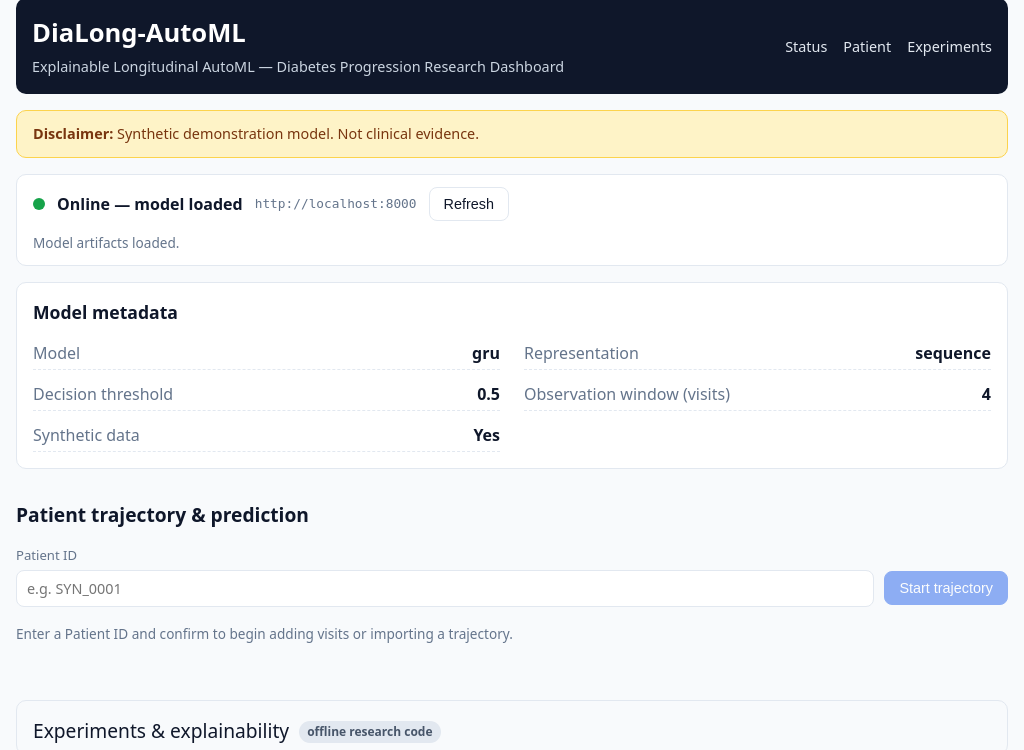
Test: App — Patient ID first step › creates a new patient with an empty history and reveals controls
Type "SYN_NEW" into the field with test id "patient-id-input" at [445, 588], box [16,570,874,607]
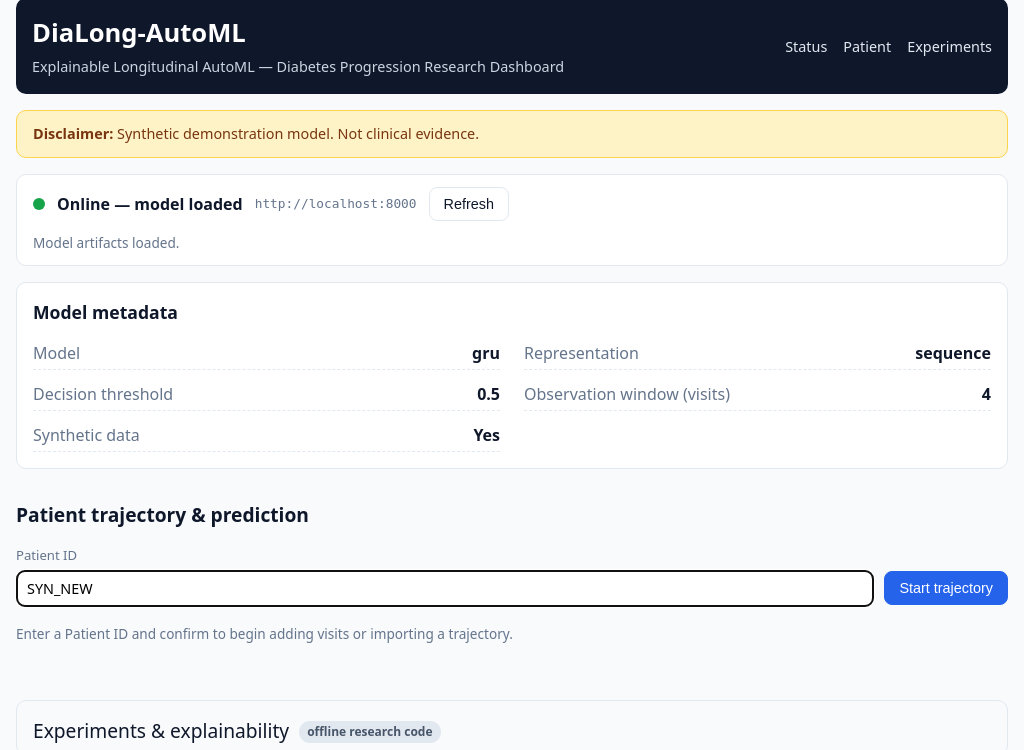
Click the button with test id "patient-id-confirm" at [946, 588], box [884,571,1008,605]
(page scrolled)
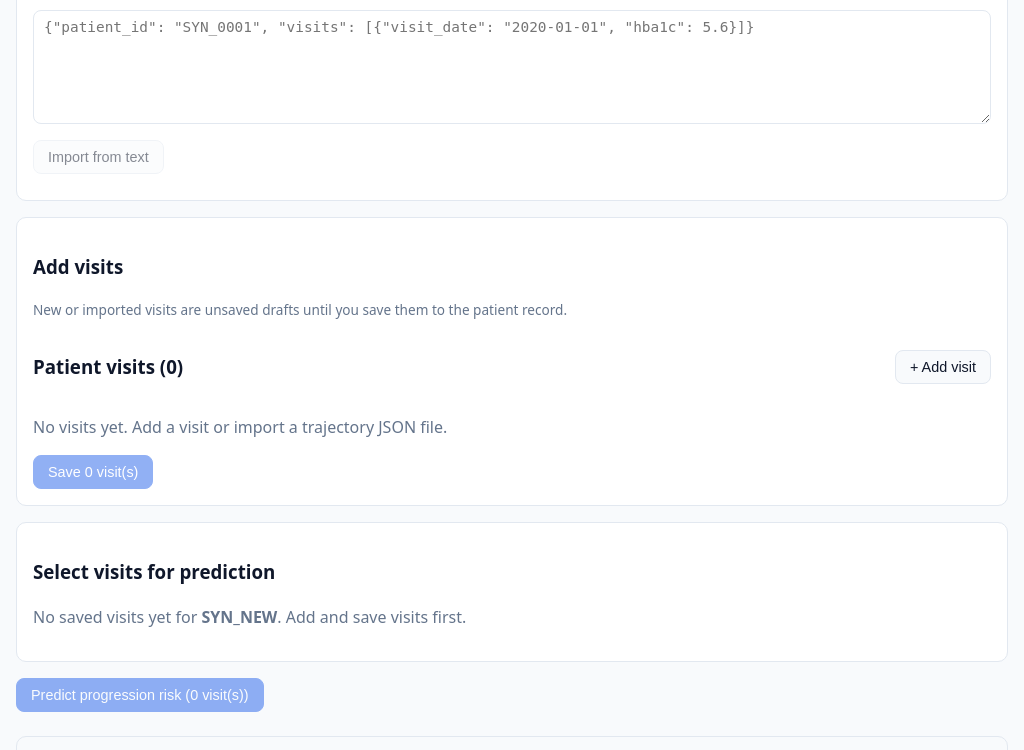
Expected: the button with test id "add-visit" is shown, [895,350,991,384]
